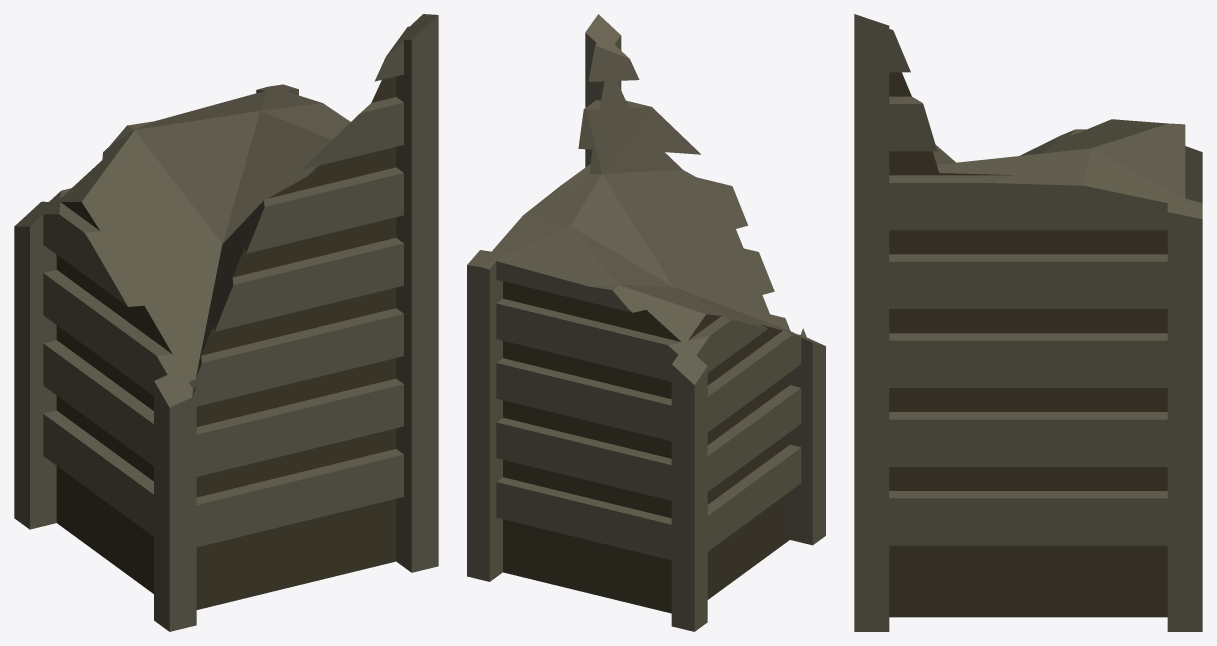
Rendered from building3.fbx.
3 views of the same model, side by side, from view 1: azimuth 30°, elevation 25°; view 2: azimuth 150°, elevation 25°; view 3: azimuth 270°, elevation 25° (orthographic). The views are drawn at different scales.
Visible parts, largest first — view 1: Cube.013; view 2: Cube.013; view 3: Cube.013.
Part boxes in pixels (left/top/right/bottom): Cube.013: left=14, top=14, right=438, bottom=631; Cube.013: left=467, top=14, right=825, bottom=631; Cube.013: left=854, top=14, right=1202, bottom=631.
Bounding box in the file's own units: 400 × 783 × 400.
